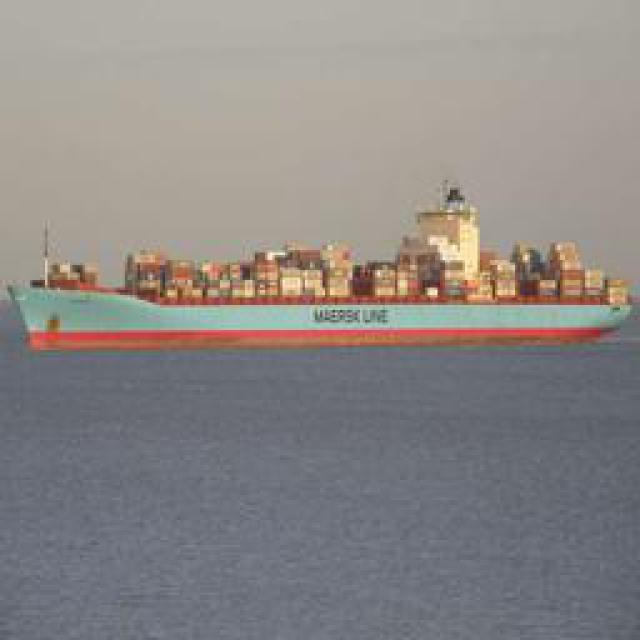Ship: (11, 236, 640, 342)
